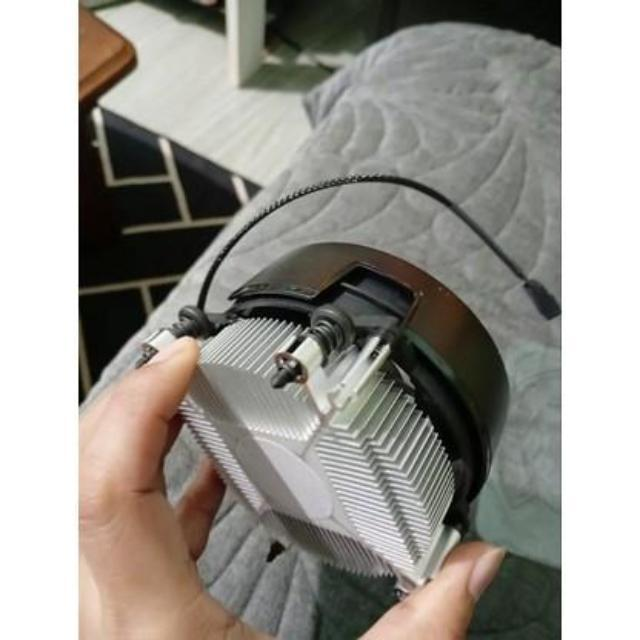CPU_Fan: (142, 238, 510, 576)
